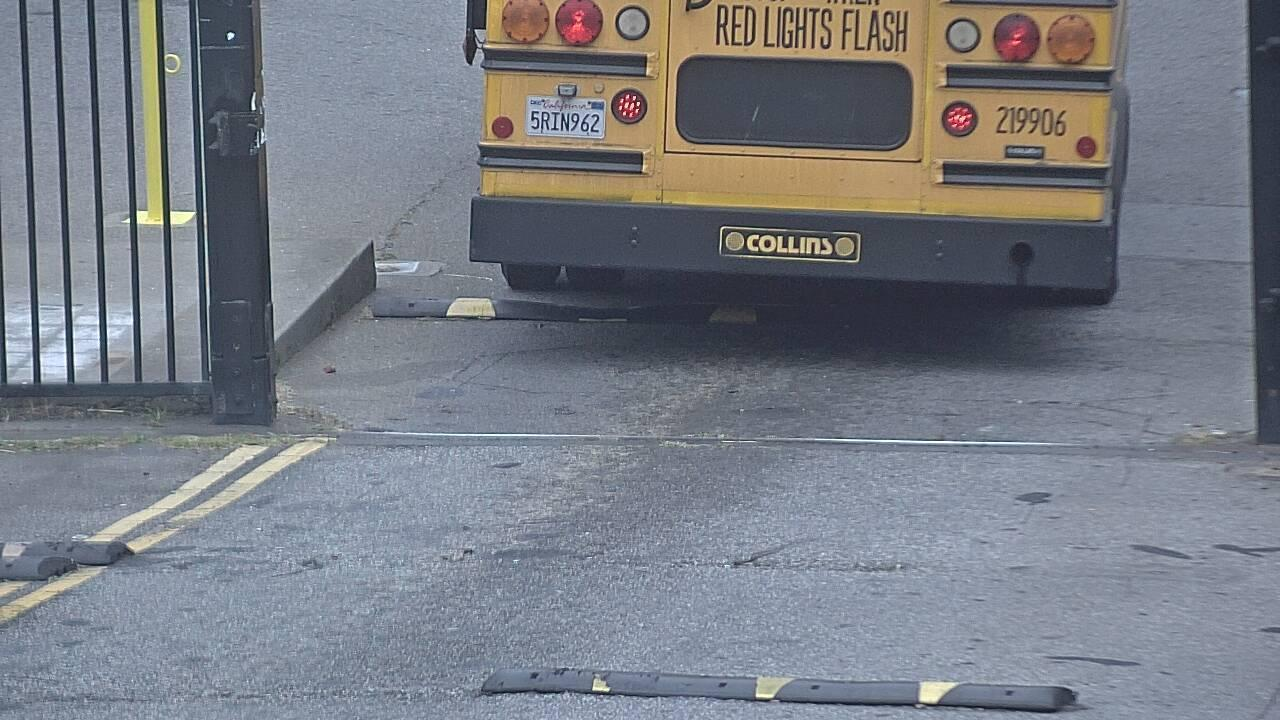placa de veiculo: (512, 77, 622, 154)
